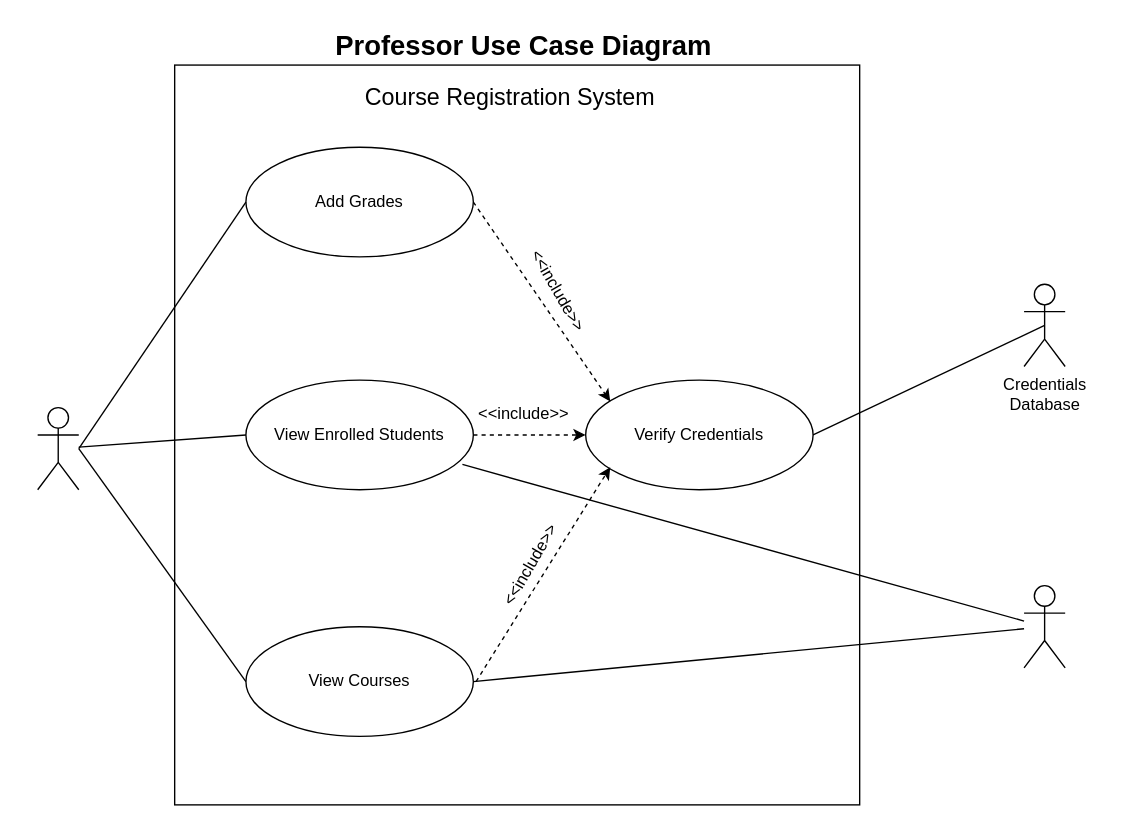
Image size: 1125x829. Some labels were removed from this diagram. The centre of each missing label's shape, as x and y in pixels:
"Course Catalog" belongs at (1044,626).
"Professor" belongs at (57,448).
